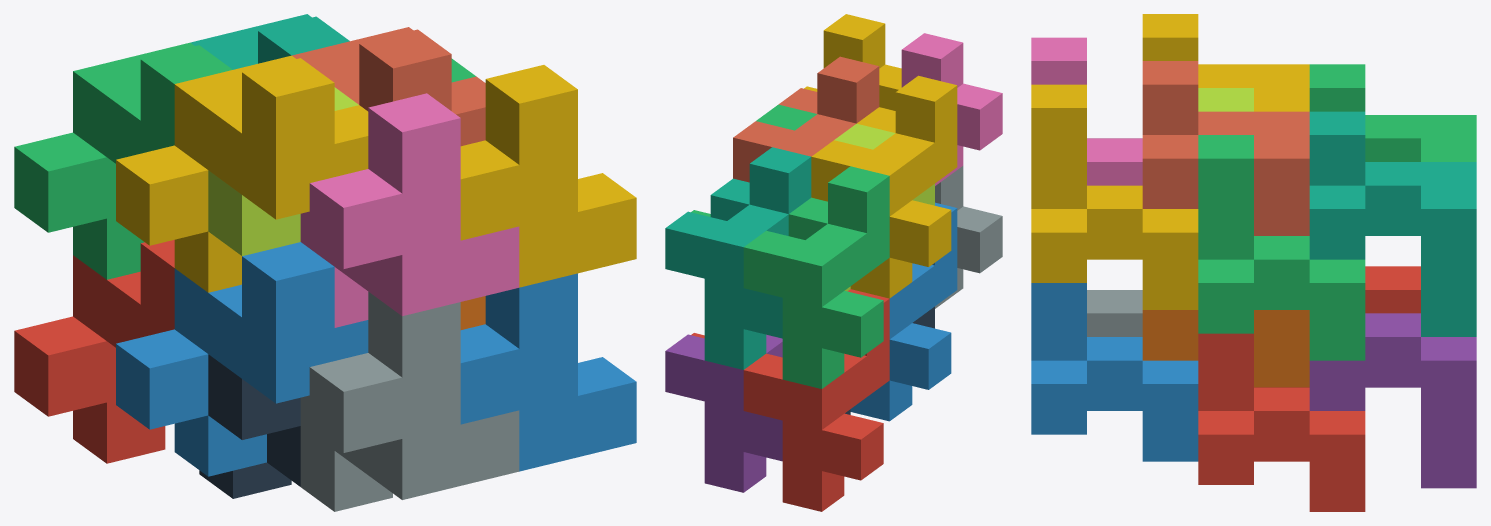
The model's file is tiling.obj.
The picture shows the model from 3 angles, left to right: view 1: azimuth 30°, elevation 25°; view 2: azimuth 150°, elevation 25°; view 3: azimuth 270°, elevation 25°; orthographic projection. The views are drawn at different scales.
Parts seen in each view (by area): view 1: copy_1_domain_4, copy_2_domain_2, copy_2_domain_4, copy_1_domain_2, copy_2_domain_8, copy_2_domain_6, copy_1_domain_3, copy_1_domain_1, copy_1_domain_8, copy_2_domain_1, copy_2_domain_3, copy_1_domain_7 (+1 smaller); view 2: copy_1_domain_3, copy_1_domain_7, copy_1_domain_4, copy_1_domain_1, copy_1_domain_5, copy_1_domain_2, copy_1_domain_8, copy_2_domain_4, copy_2_domain_2, copy_2_domain_8, copy_2_domain_3, copy_2_domain_7; view 3: copy_1_domain_7, copy_2_domain_7, copy_2_domain_8, copy_2_domain_5, copy_2_domain_6, copy_1_domain_8, copy_1_domain_5, copy_1_domain_3, copy_1_domain_6, copy_1_domain_4, copy_2_domain_4, copy_1_domain_1 (+2 smaller).
Part boxes in pixels (x1,y1,x2,y2): copy_1_domain_4: [116, 55, 368, 292]; copy_2_domain_2: [300, 292, 519, 511]; copy_2_domain_4: [300, 93, 519, 327]; copy_1_domain_2: [116, 242, 368, 476]; copy_2_domain_8: [460, 65, 636, 287]; copy_2_domain_6: [460, 273, 636, 471]; copy_1_domain_3: [14, 42, 232, 279]; copy_1_domain_1: [14, 240, 174, 463]; copy_1_domain_8: [292, 27, 485, 146]; copy_2_domain_1: [199, 354, 300, 498]; copy_2_domain_3: [208, 87, 358, 256]; copy_1_domain_7: [190, 14, 349, 69]; copy_1_domain_3: [743, 166, 889, 388]; copy_1_domain_7: [665, 147, 811, 369]; copy_1_domain_4: [811, 75, 957, 298]; copy_1_domain_1: [743, 289, 889, 511]; copy_1_domain_5: [665, 334, 782, 492]; copy_1_domain_2: [850, 202, 957, 421]; copy_1_domain_8: [733, 56, 879, 182]; copy_2_domain_4: [901, 33, 1002, 185]; copy_2_domain_2: [935, 166, 1002, 308]; copy_2_domain_8: [804, 14, 901, 110]; copy_2_domain_3: [834, 123, 934, 291]; copy_2_domain_7: [691, 104, 816, 216]; copy_1_domain_7: [1309, 111, 1476, 336]; copy_2_domain_7: [1198, 135, 1365, 360]; copy_2_domain_8: [1031, 84, 1198, 309]; copy_2_domain_5: [1198, 333, 1365, 511]; copy_2_domain_6: [1031, 283, 1198, 461]; copy_1_domain_8: [1142, 61, 1309, 235]; copy_1_domain_5: [1309, 313, 1476, 488]; copy_1_domain_3: [1309, 64, 1476, 161]; copy_1_domain_6: [1142, 310, 1309, 387]; copy_1_domain_4: [1142, 14, 1309, 111]; copy_2_domain_4: [1031, 37, 1142, 185]; copy_1_domain_1: [1365, 266, 1420, 313].
Bounding box in the file's own units: 6 × 8 × 8.
